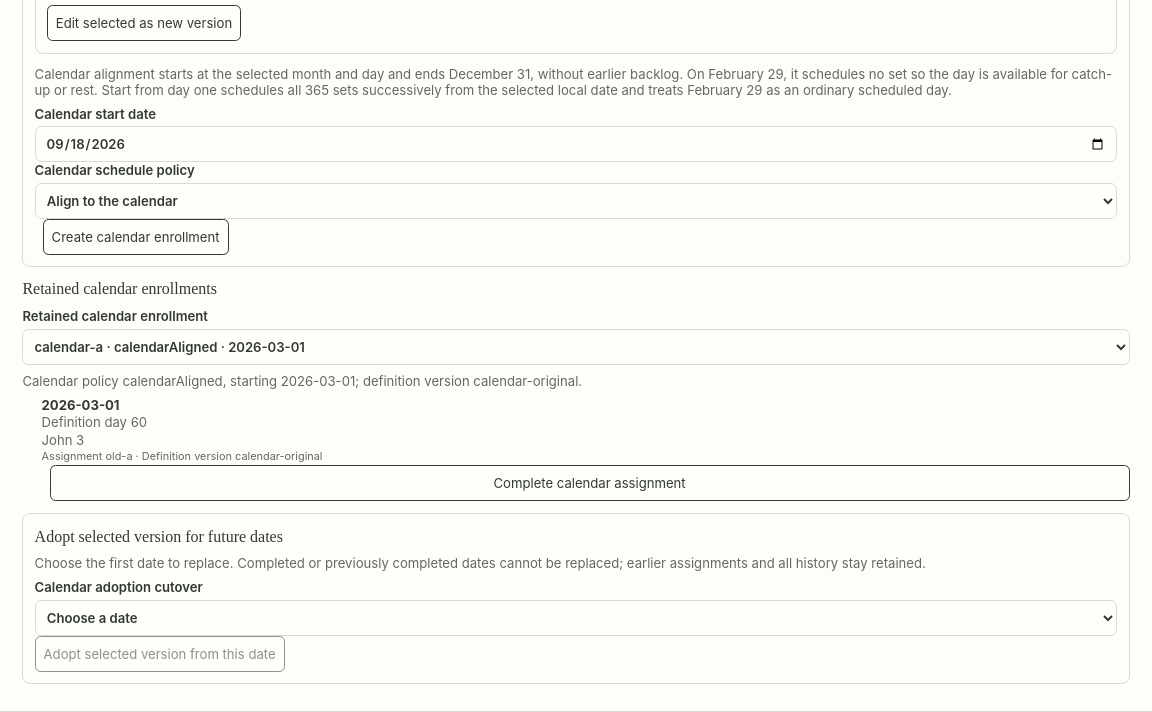
Scenario: retained plan panel › refreshes calendar assignments after a confirmed adoption settles across away and back
(page scrolled)
Select "2026-03-01 · day 60" in the dropdown labelled "Calendar adoption cutover" at (576, 618), box [35,600,1117,636]
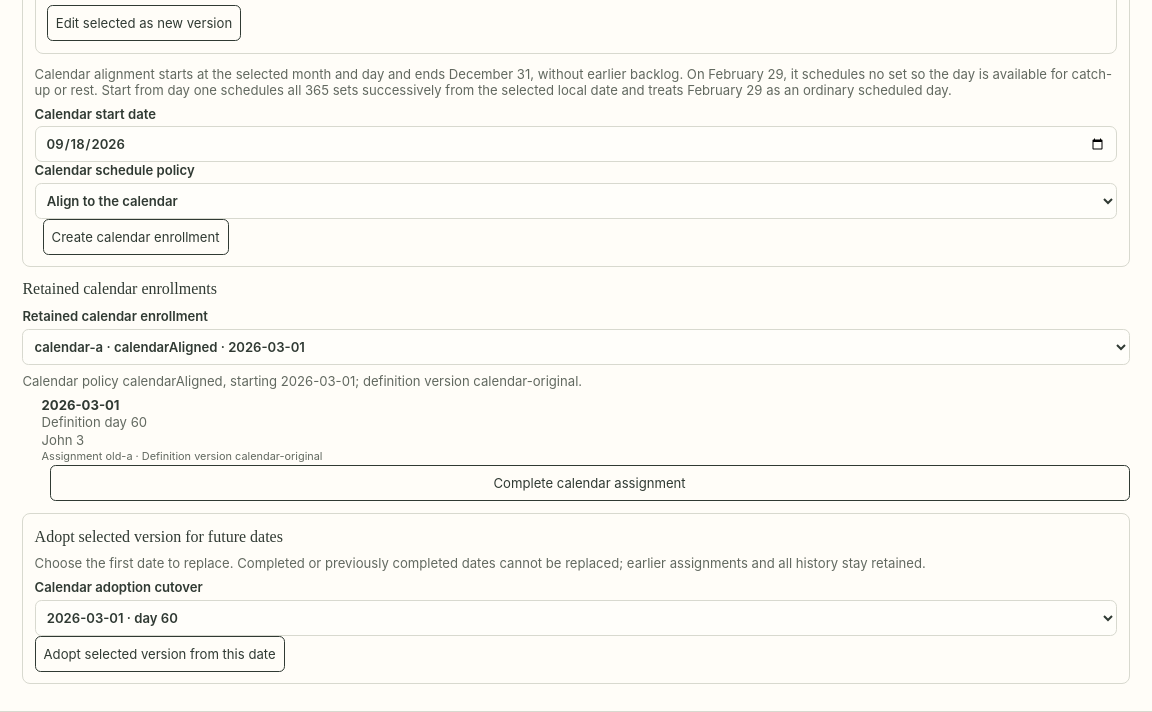
Click the button "Adopt selected version from this date".
click(160, 654)  # box [35,636,285,672]
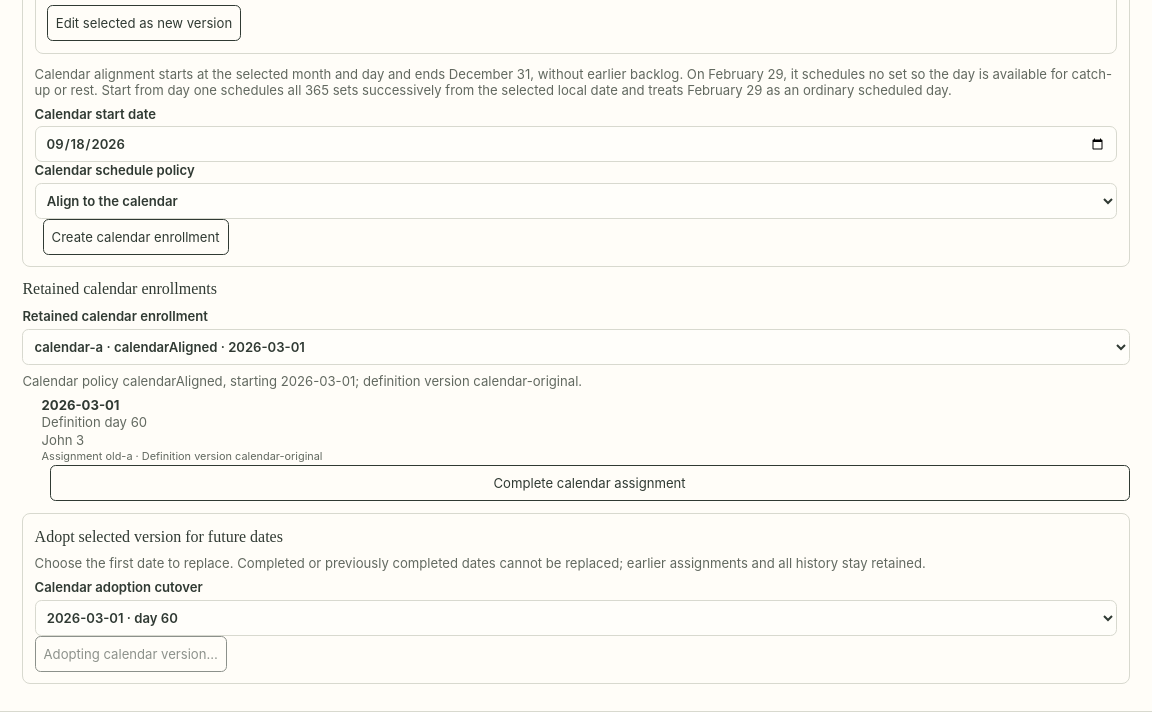
Select "calendar-b · calendarAligned · 2026-04-01" in the dropdown labelled "Retained calendar enrollment" at (576, 347), box [22,329,1130,365]
(page scrolled)
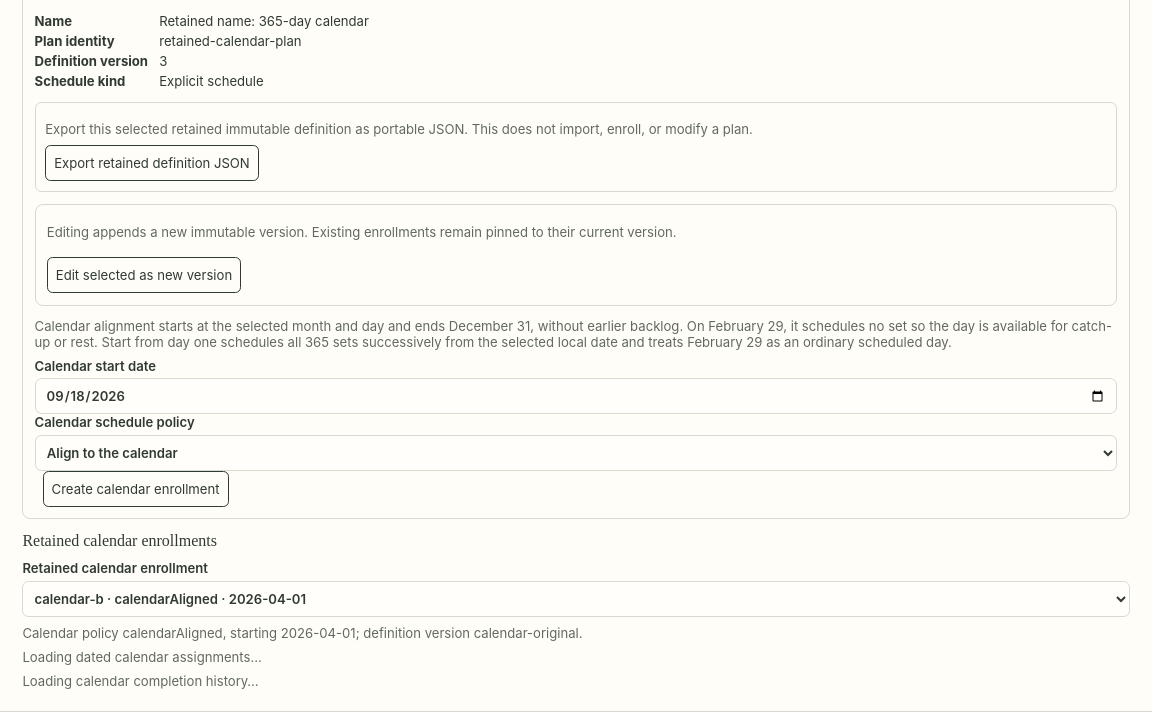
Select "calendar-a · calendarAligned · 2026-03-01" in the dropdown labelled "Retained calendar enrollment" at (576, 599), box [22,581,1130,617]
(page scrolled)
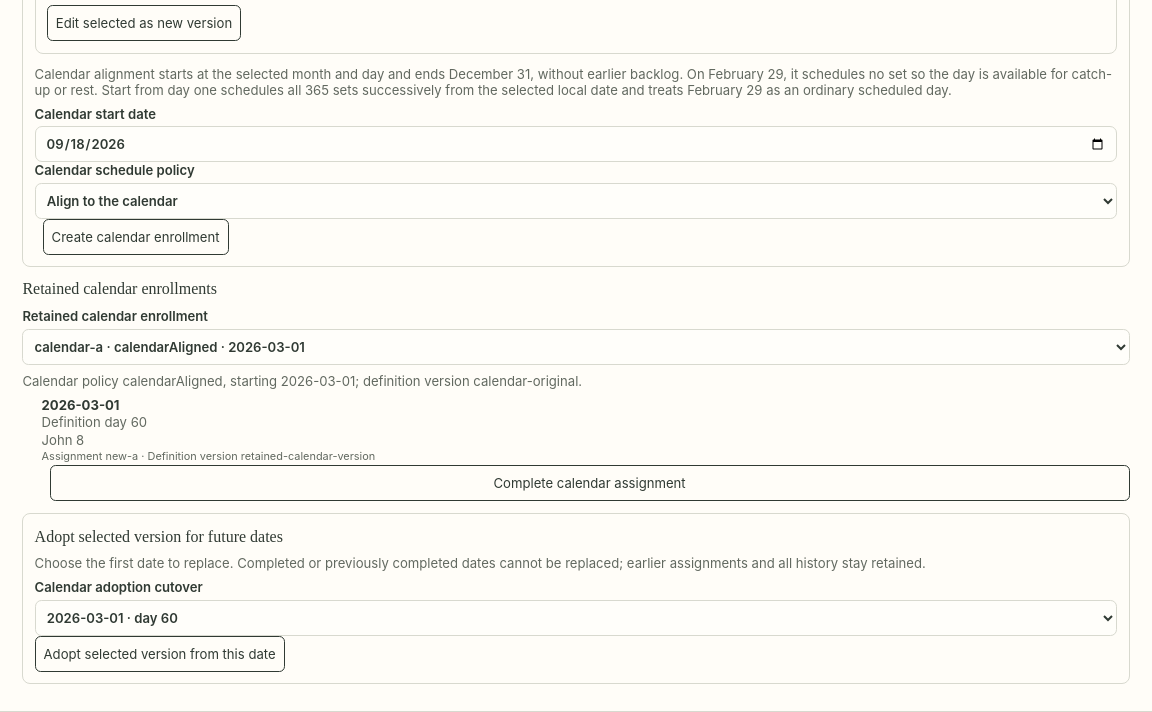
Now the text "John 8" is shown, box [42,432,84,448]
